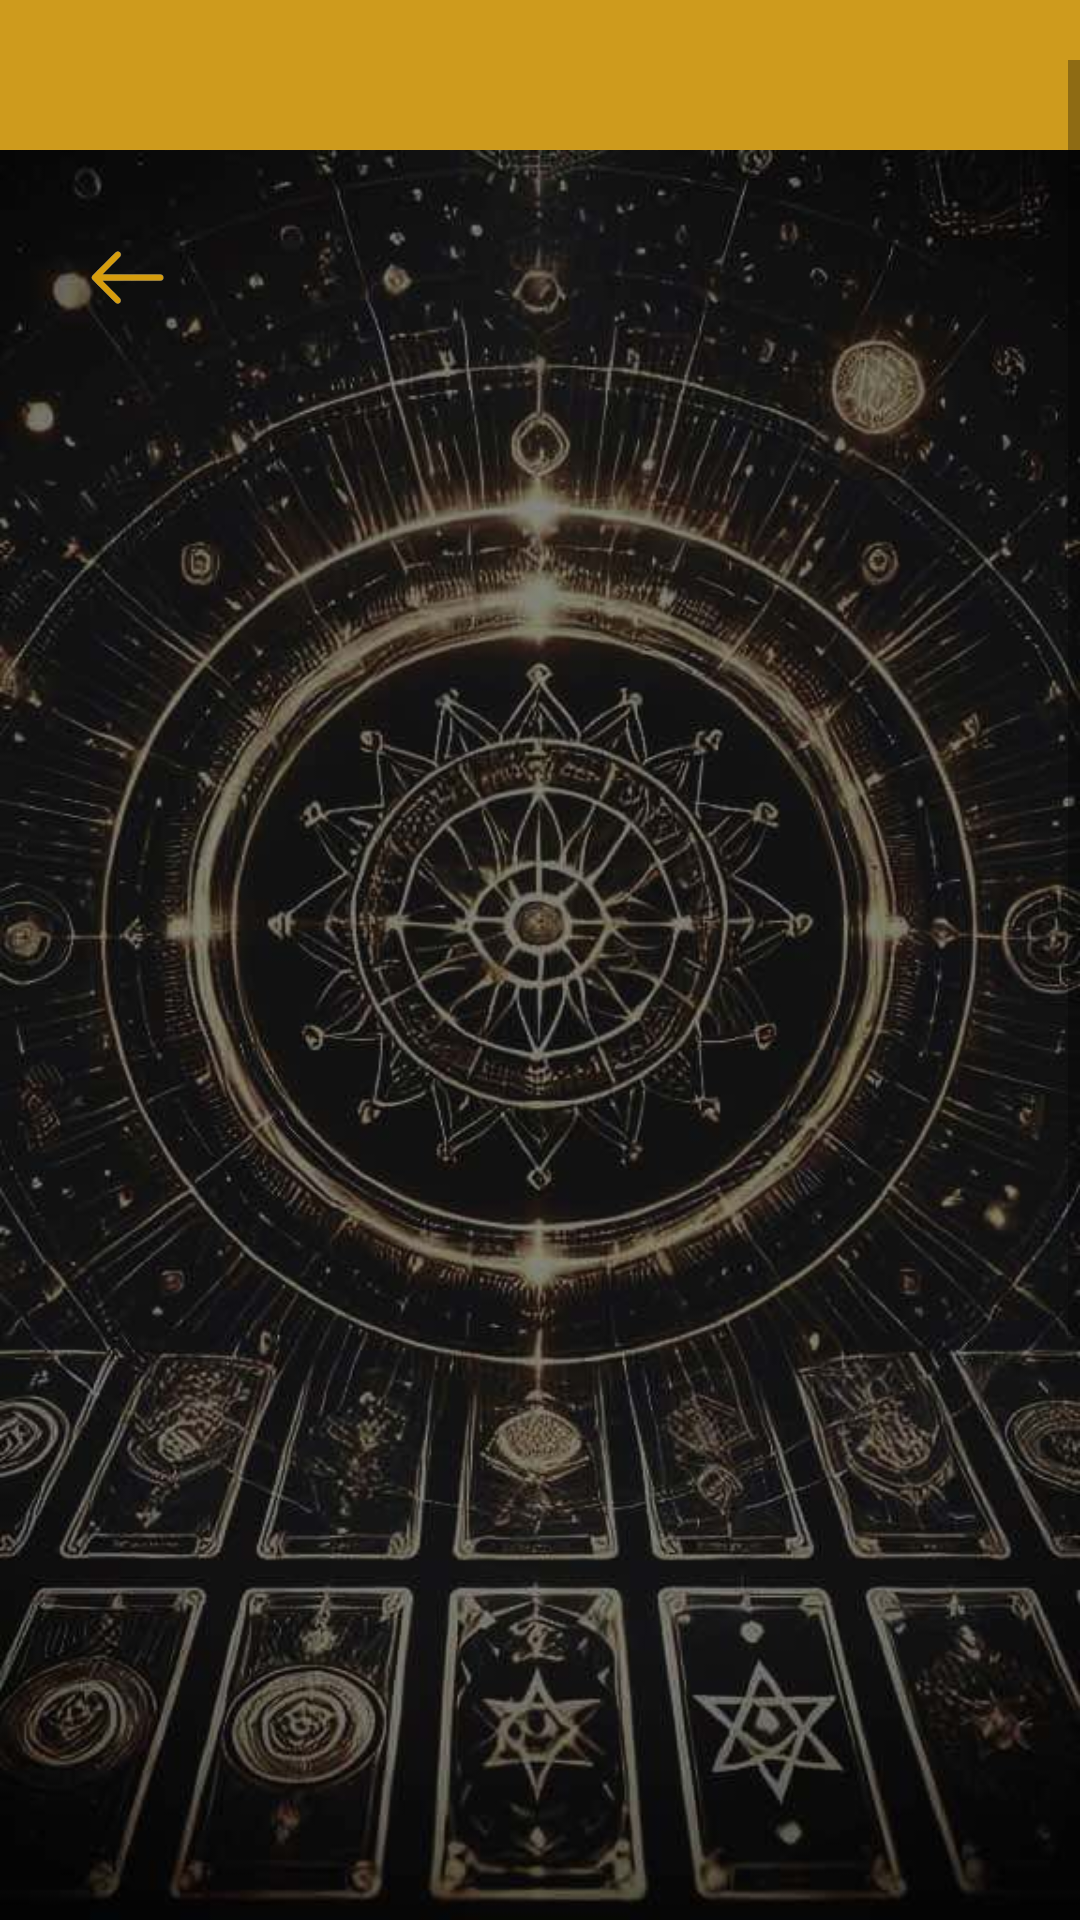

Locate icon controls on the screen. Image size 1080w x 1920h, boxes as box(x1, y1, x2, y2).
back: box(91, 251, 164, 304)
